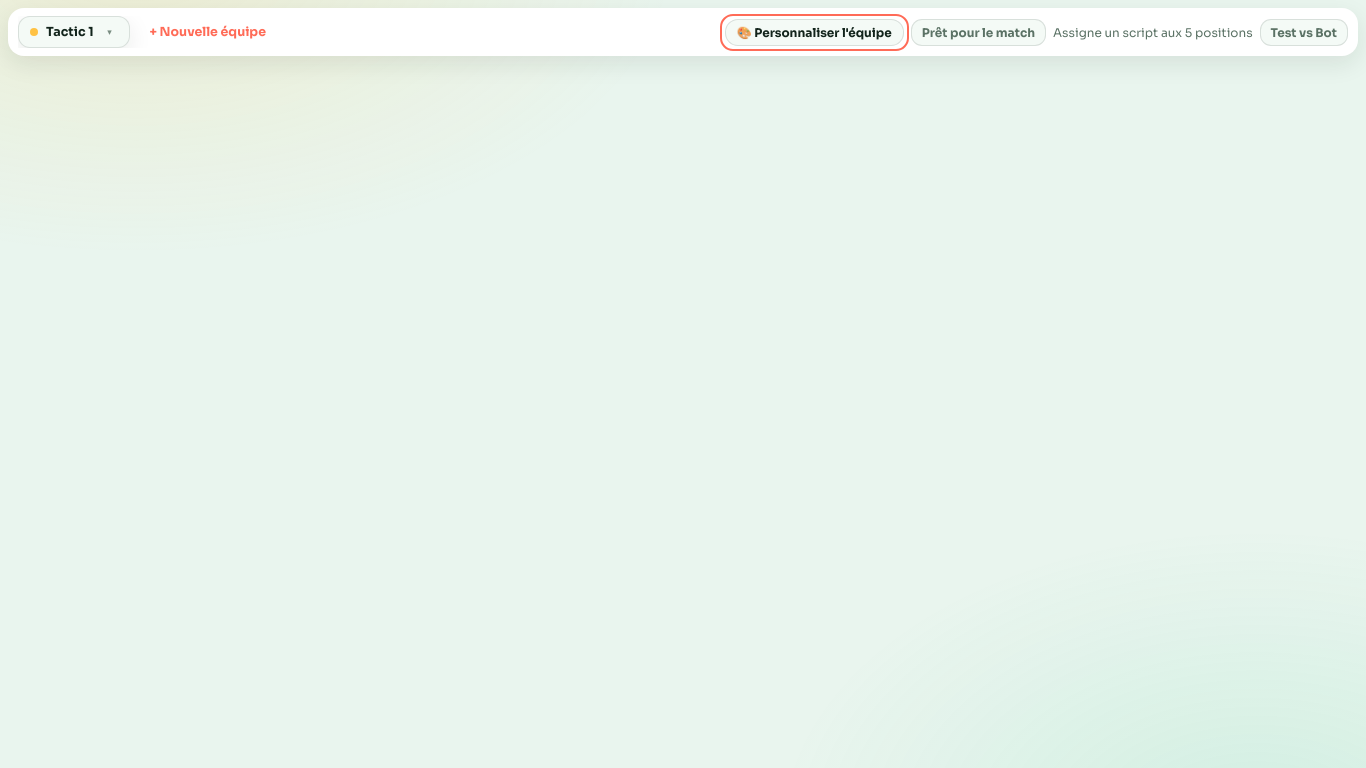
it: Teambar Component › should close the caret menu on Escape
Click the button with test id "team-caret". click: (110, 32)
box: [102,24,118,40]
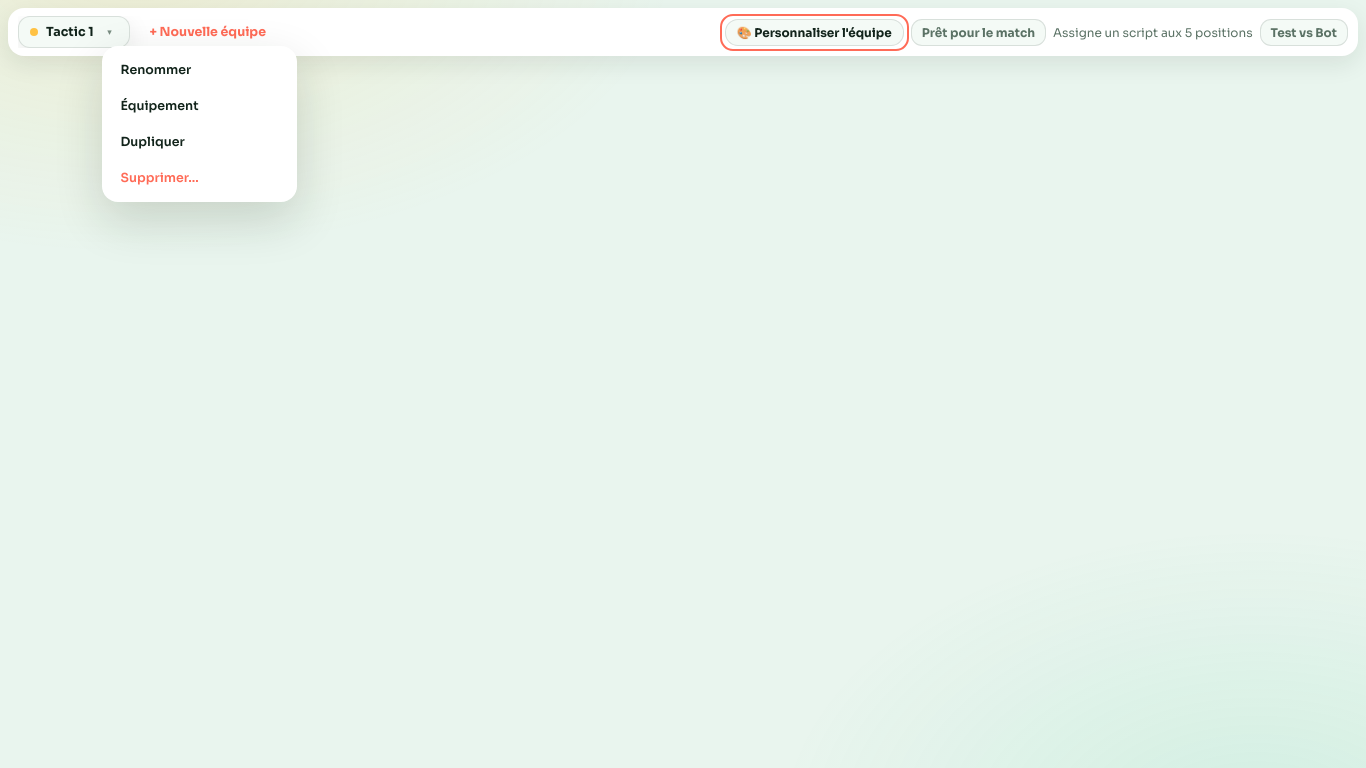
Expected: the element with test id "team-menu" is shown, [102,46,296,202]
Press Escape
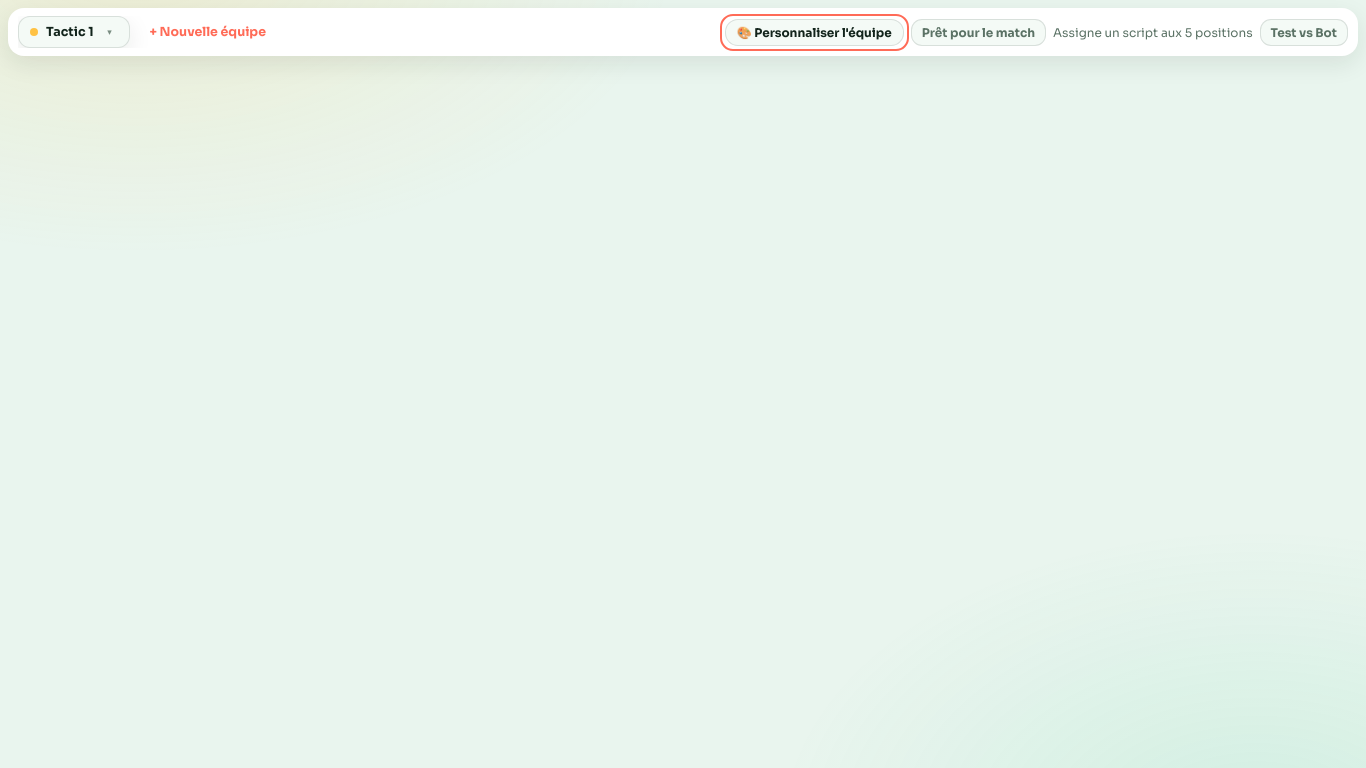
Expected: the element with test id "team-menu" is gone
